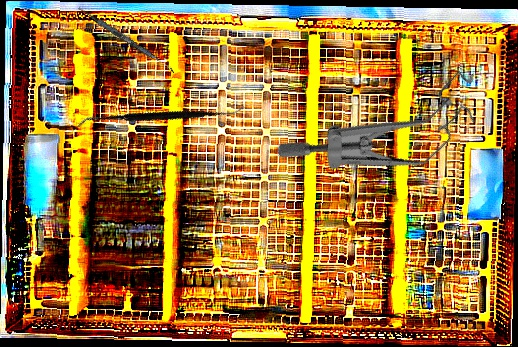Spatula Surgical: (75, 38, 247, 197), (75, 6, 178, 73)
Speculum: (271, 13, 502, 238)
